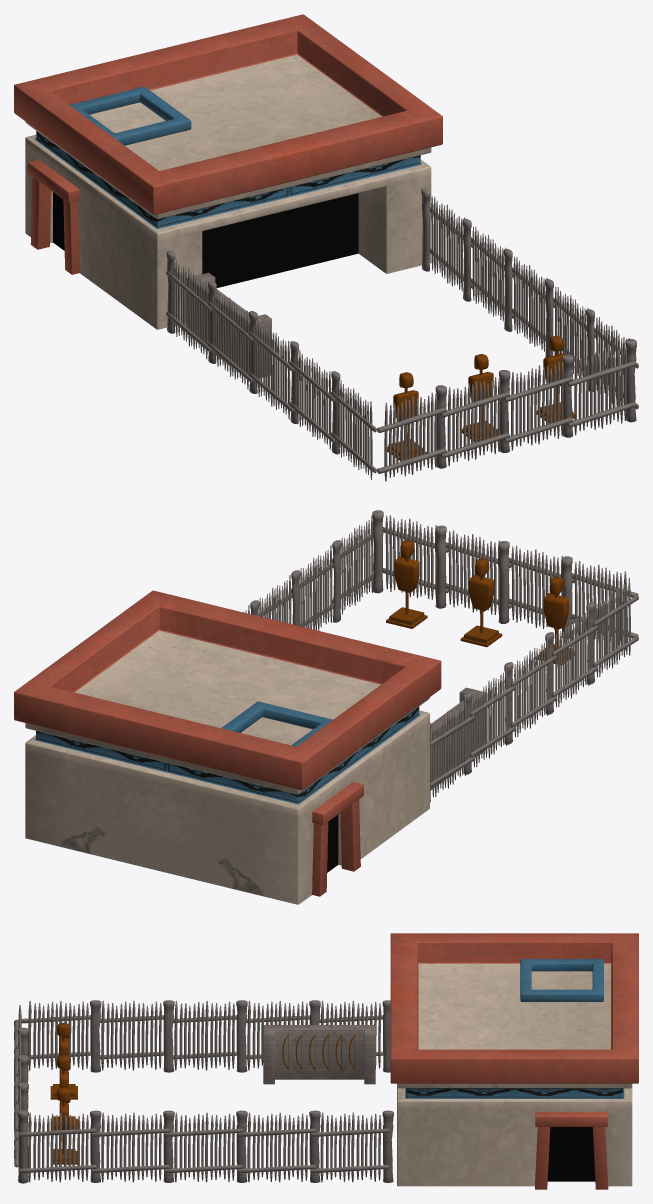
Rendered from EscuelaDistancia.fbx.
The picture shows the model from 3 angles, top to bottom: view 1: azimuth 30°, elevation 25°; view 2: azimuth 150°, elevation 25°; view 3: azimuth 270°, elevation 25°; orthographic projection. The views are drawn at different scales.
Visible parts, largest first — view 1: Plane.037; view 2: Plane.037; view 3: Plane.037.
Part boxes in pixels (x1=…): Plane.037: x1=14, y1=14, x2=638, y2=481; Plane.037: x1=14, y1=510, x2=638, y2=904; Plane.037: x1=14, y1=933, x2=638, y2=1189.
Size of the model in its own units: 466 by 222 by 956.
1 material, 1 textured.
